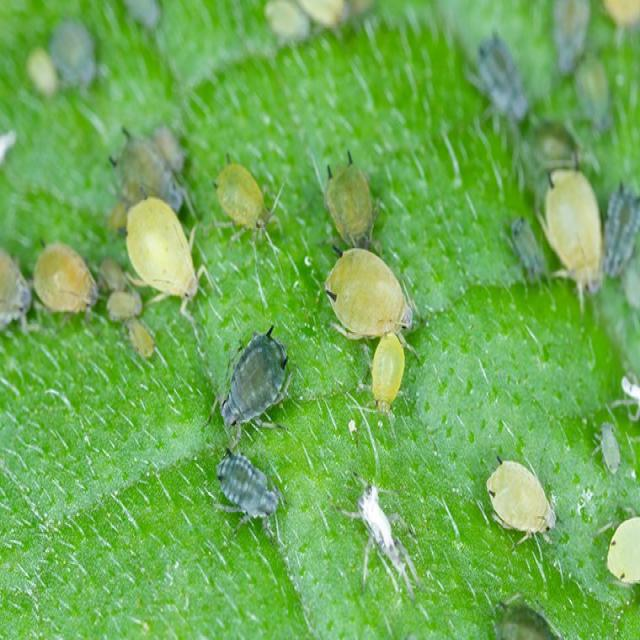Aphid-Grown-: (118, 184, 212, 320), (534, 146, 608, 314), (314, 233, 419, 348), (209, 318, 293, 438), (470, 442, 562, 546), (206, 439, 287, 541), (208, 158, 288, 253), (27, 232, 105, 323), (319, 159, 383, 247), (363, 331, 414, 416)
